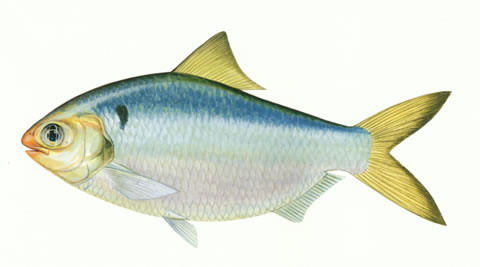fish: (20, 31, 452, 248)
